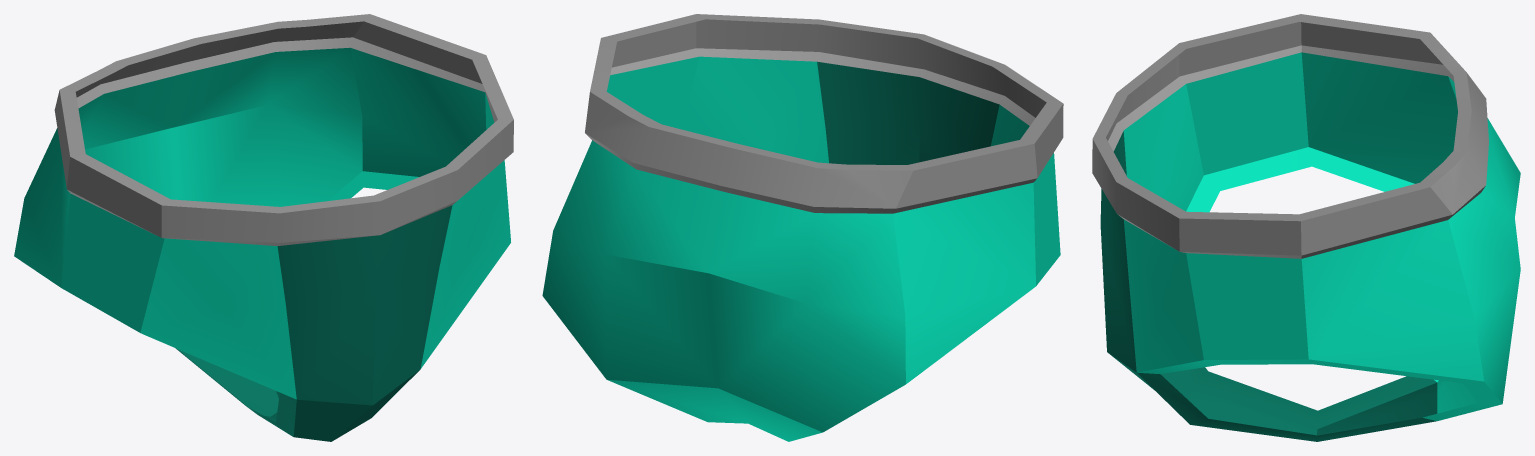
File: UnderPants_M.fbx
The picture shows the model from 3 angles, left to right: view 1: azimuth 30°, elevation 25°; view 2: azimuth 150°, elevation 25°; view 3: azimuth 270°, elevation 25°; orthographic projection. The views are drawn at different scales.
Visible parts, largest first — view 1: UnderPants_M; view 2: UnderPants_M; view 3: UnderPants_M.
Part boxes in pixels (bbox=[...]): UnderPants_M: bbox=[14, 14, 513, 441]; UnderPants_M: bbox=[542, 14, 1063, 441]; UnderPants_M: bbox=[1092, 14, 1520, 441].
Size of the model in its own units: 32.41 by 23.54 by 27.64.
